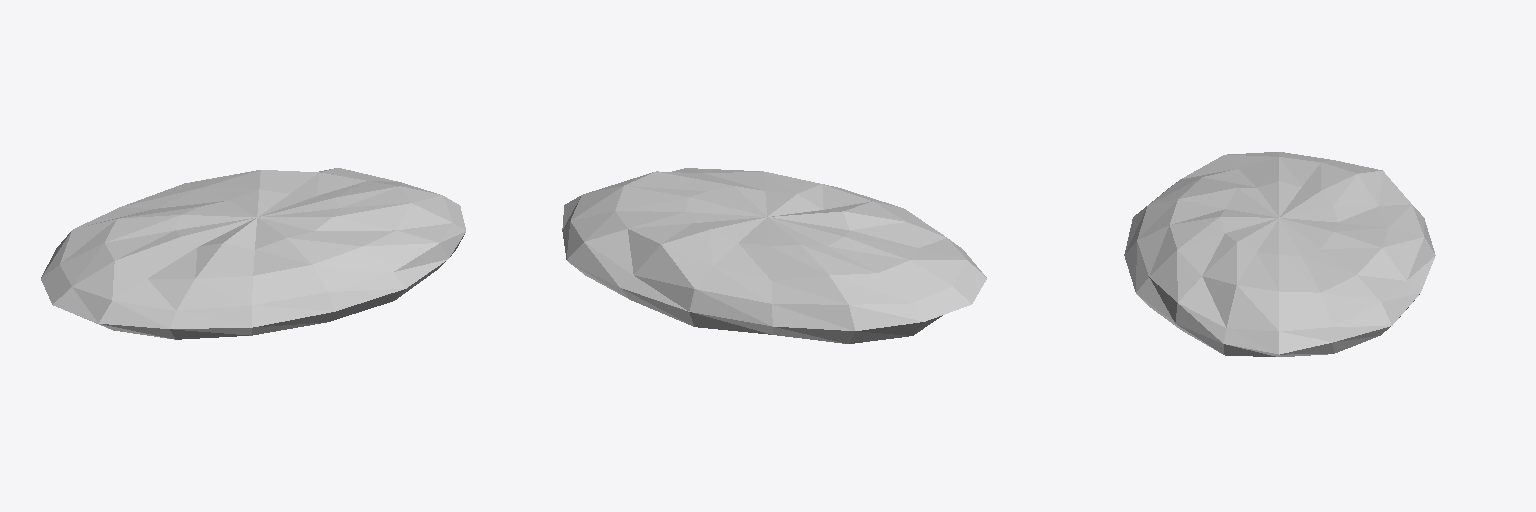
Rendered from cloud.obj.
3 renders of one model, left to right at view 1: azimuth 30°, elevation 25°; view 2: azimuth 150°, elevation 25°; view 3: azimuth 270°, elevation 25°, orthographic.
Visible parts, largest first — view 1: clouds.2; view 2: clouds.2; view 3: clouds.2.
Part boxes in pixels (x1,y1,x2,y2): clouds.2: (41,168,465,339); clouds.2: (562,168,986,343); clouds.2: (1124,152,1435,356).
Bounding box in the file's own units: 599 × 118 × 396.